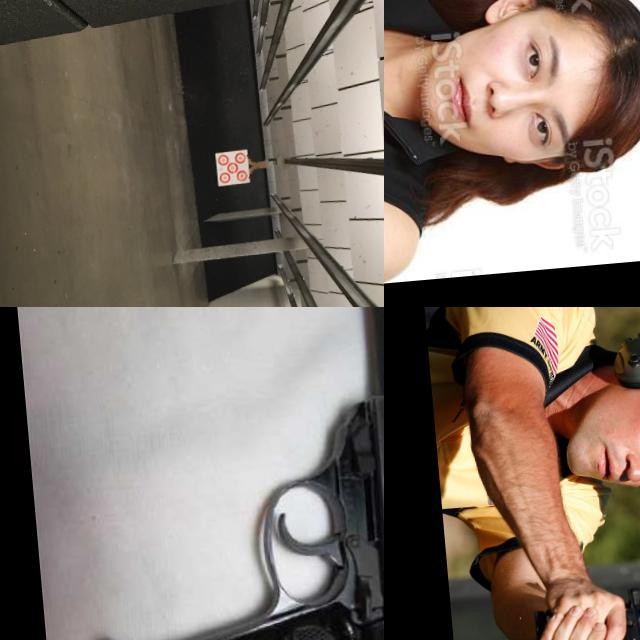handgun: (49, 307, 384, 640), (391, 0, 615, 51), (590, 585, 640, 640)
